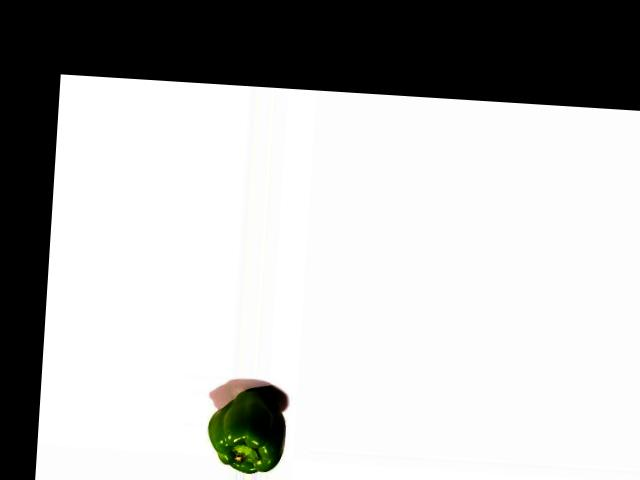bell_pepper: (202, 383, 290, 475)
